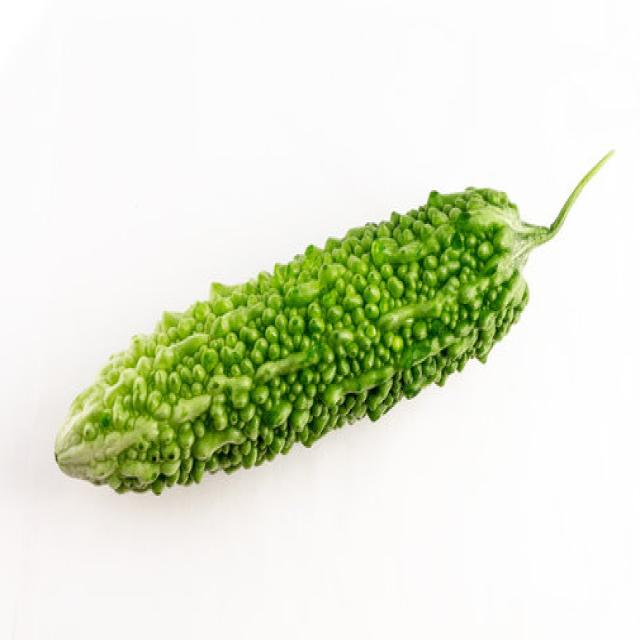Bitter_Gourd: (53, 146, 615, 496)
